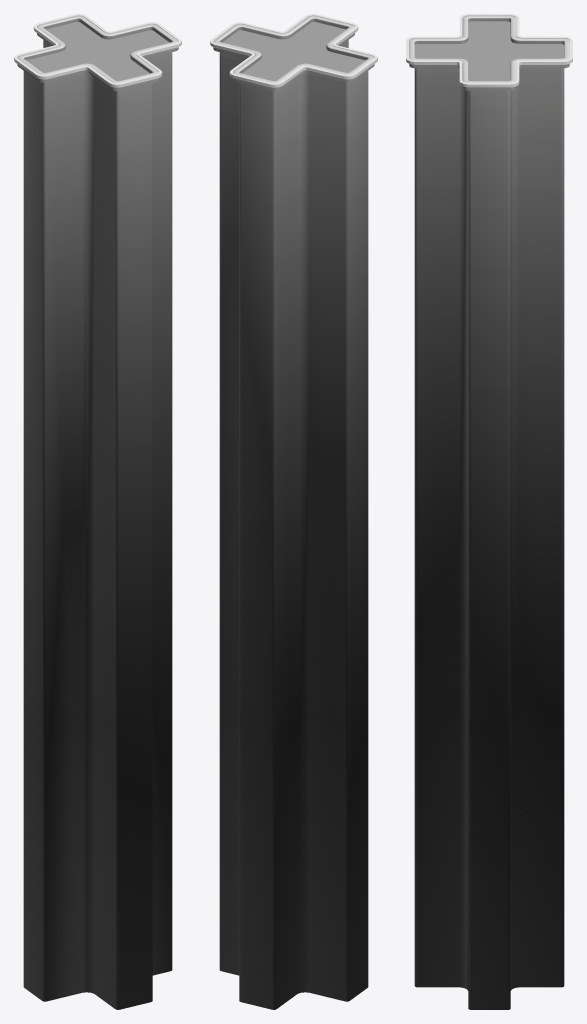
File: BLOCK3D_PLUS.fbx
The picture shows the model from 3 angles, left to right: view 1: azimuth 30°, elevation 25°; view 2: azimuth 150°, elevation 25°; view 3: azimuth 270°, elevation 25°; orthographic projection.
Visible parts, largest first — view 1: Plus_3_003, Plus_3_003.001, OUTLINE; view 2: Plus_3_003, Plus_3_003.001, OUTLINE; view 3: Plus_3_003, Plus_3_003.001, OUTLINE.
Boxes of the visible parts, x1,y1,x2,y2 form: Plus_3_003: (17, 15, 178, 1009); Plus_3_003.001: (23, 22, 172, 94); OUTLINE: (14, 14, 181, 87); Plus_3_003: (213, 15, 374, 1009); Plus_3_003.001: (219, 22, 368, 94); OUTLINE: (210, 14, 377, 87); Plus_3_003: (409, 15, 569, 1009); Plus_3_003.001: (414, 21, 564, 94); OUTLINE: (406, 14, 572, 87).
Size of the model in its own units: 312 by 1916 by 312.
